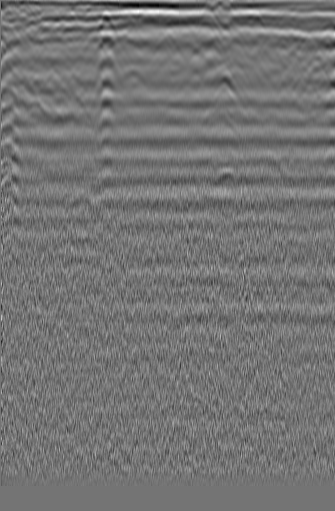가스: (208, 165, 239, 195)
상수: (32, 21, 63, 48)
오수: (289, 31, 321, 63)
우수: (153, 29, 182, 60)
